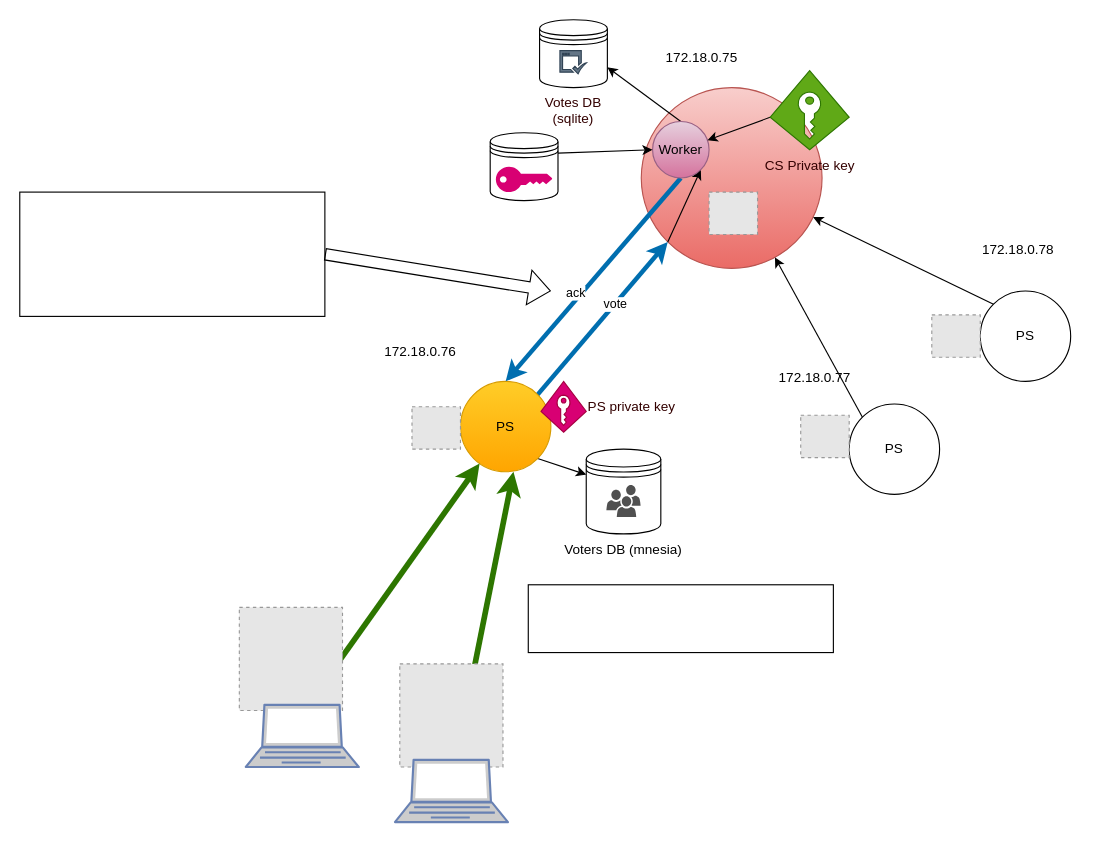
Some shapes in this 1113 by 843 pixel diagram are drawn without their labels. Grey dashed boxes stand in for pictures. The box of each missing label's shape, as (x1, y1, x2, y2) in pixels:
CS: (640, 86, 822, 268)
enc(vote| PADDING, CS_pub) | voterID: (527, 584, 833, 653)
enc(vote|PADDING, CS_pub) | sign(hash(roba), PSi_priv, nonce_PSi) | nonce_PSi: (19, 191, 325, 316)
Public Keys DB (mnesia): (489, 132, 558, 201)
